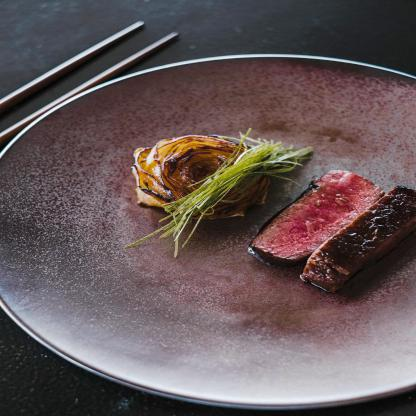Carne: (246, 165, 385, 273)
